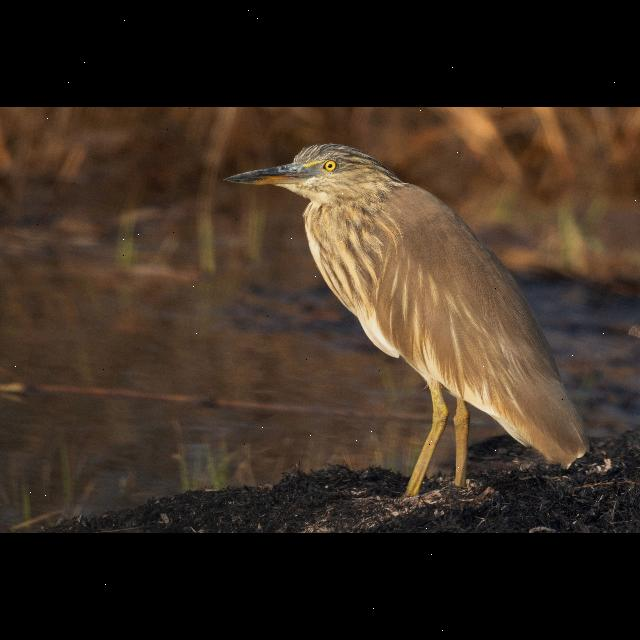heron: (219, 137, 595, 517)
